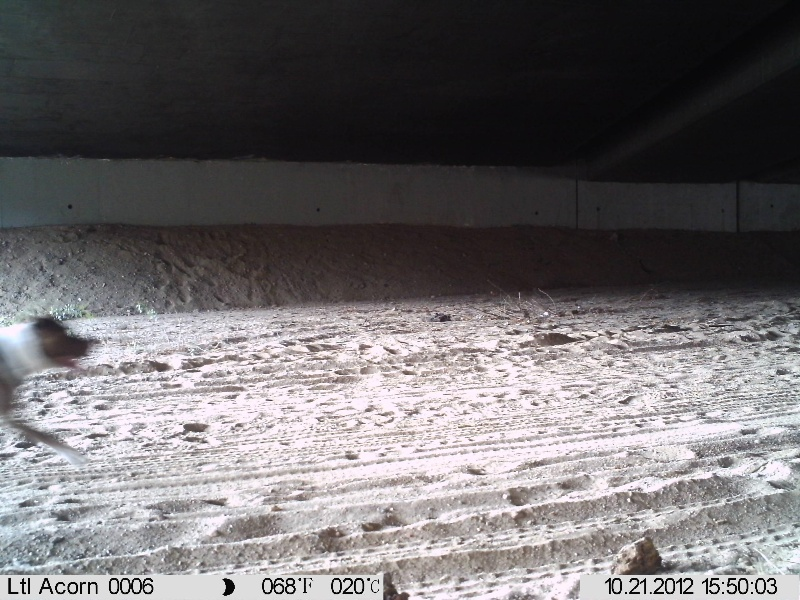dog: (1, 301, 103, 465)
